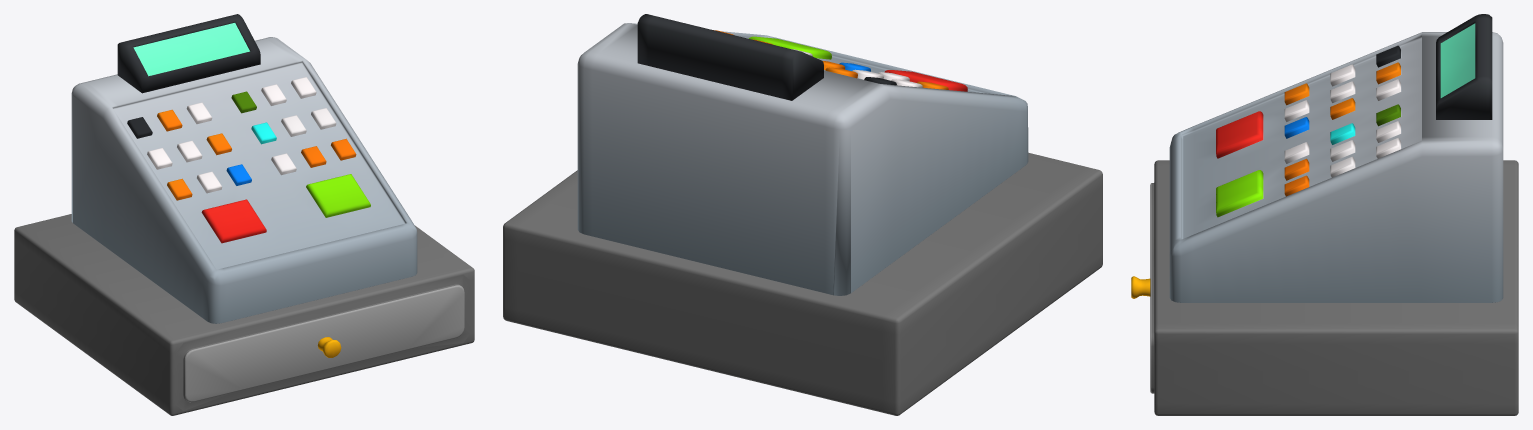
The model's file is Cash_Register.fbx.
The picture shows the model from 3 angles, left to right: view 1: azimuth 30°, elevation 25°; view 2: azimuth 150°, elevation 25°; view 3: azimuth 270°, elevation 25°; orthographic projection. The views are drawn at different scales.
Visible parts, largest first — view 1: Cash Register; view 2: Cash Register; view 3: Cash Register.
Part boxes in pixels (box(x1,y1,x2,y2)): Cash Register: box(14, 14, 474, 415); Cash Register: box(503, 14, 1102, 415); Cash Register: box(1131, 14, 1518, 415).
Size of the model in its own units: 849 by 656 by 810.
